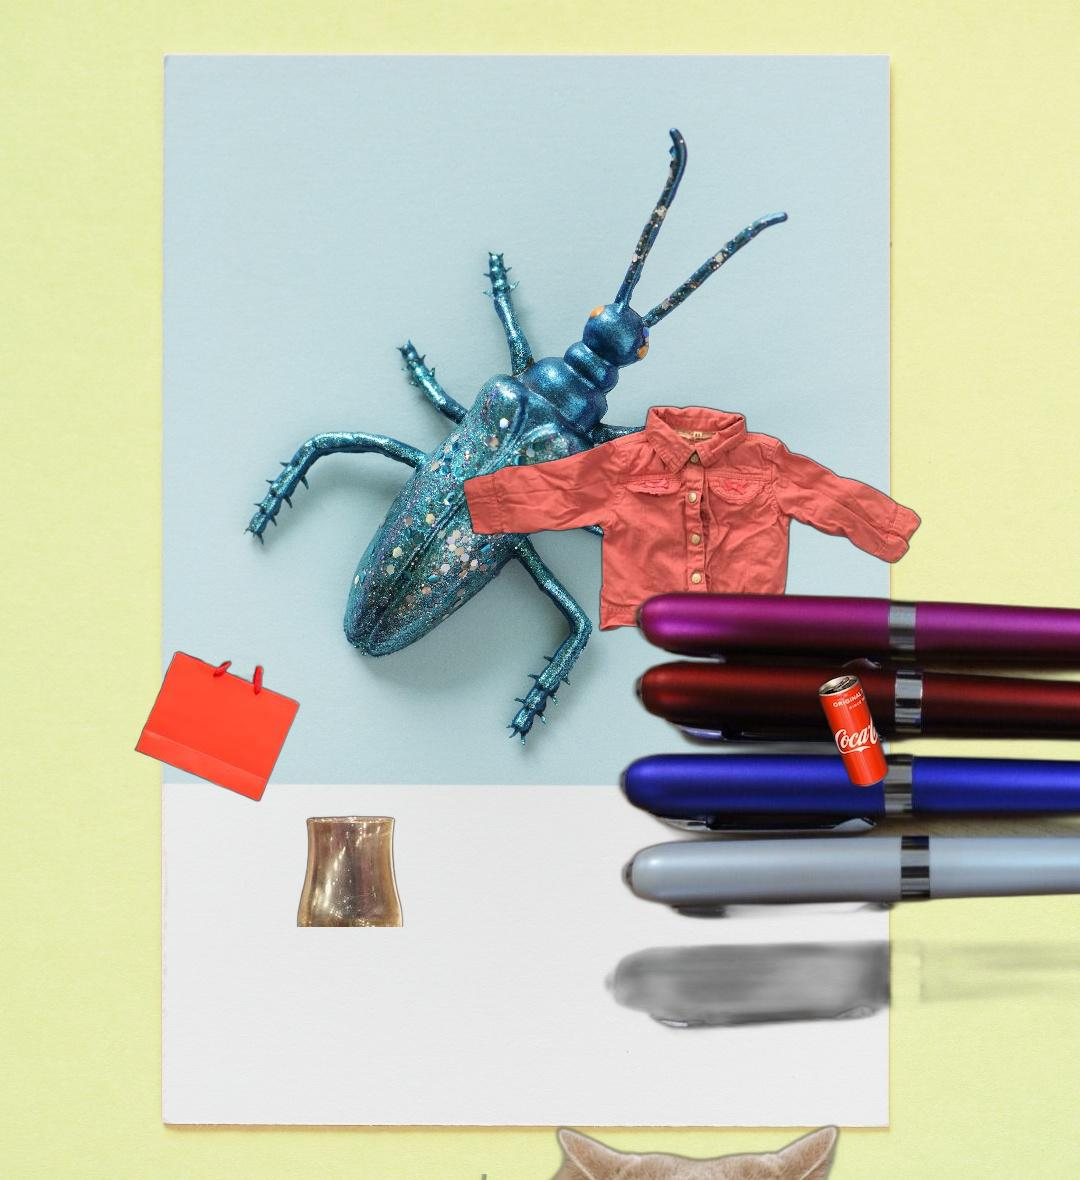clothes: (458, 403, 926, 634), (302, 1174, 702, 1180)
metal-cans: (815, 667, 893, 792)
paper-bag: (112, 648, 412, 927)
penholder: (601, 587, 1080, 1038)
trashbox-cardboard: (302, 1119, 1010, 1180)
